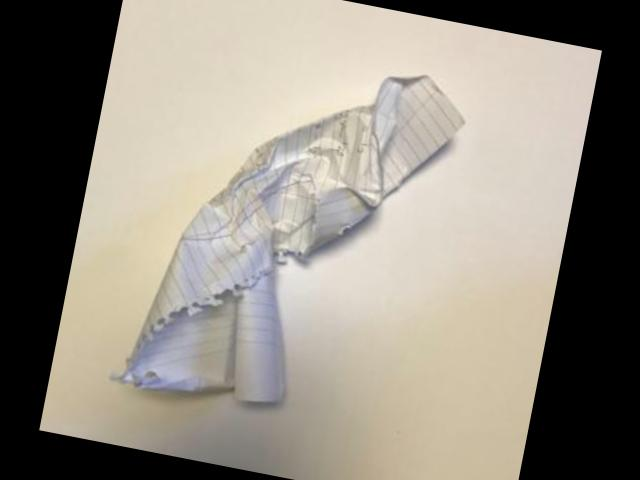cardboard paper: (120, 73, 466, 399)
